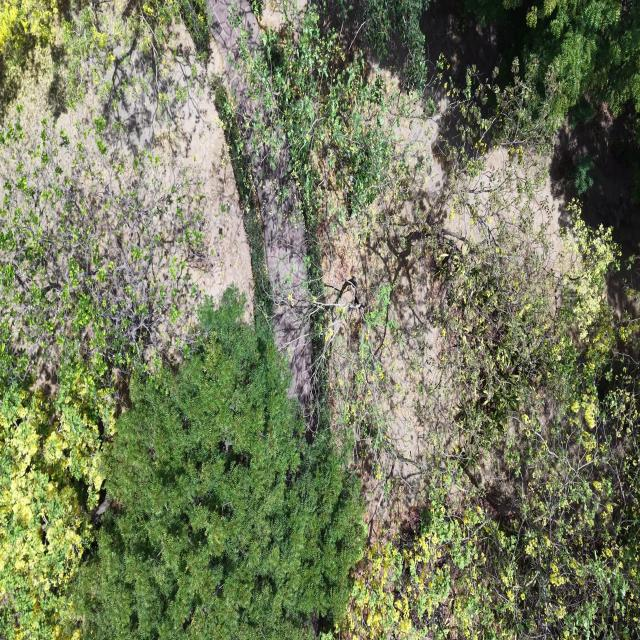DRY_AREA: (321, 116, 563, 539), (7, 25, 253, 319), (51, 0, 256, 316), (321, 117, 476, 530), (321, 153, 478, 538), (323, 207, 454, 540), (106, 25, 253, 318), (550, 104, 639, 314), (251, 148, 313, 412)
PATHWAYS: (252, 151, 312, 415)
VEGETATION_TREE: (0, 0, 639, 639), (246, 24, 638, 637), (332, 84, 638, 638), (0, 6, 211, 638), (342, 219, 638, 638), (0, 116, 207, 637), (0, 117, 203, 638), (74, 290, 361, 638), (434, 218, 638, 637), (241, 8, 426, 380), (0, 115, 207, 380), (242, 8, 405, 228), (0, 351, 115, 638), (0, 0, 212, 117), (454, 0, 639, 122), (467, 0, 639, 118), (50, 0, 211, 123), (323, 0, 429, 90), (0, 0, 60, 114), (359, 0, 428, 89), (0, 0, 58, 55)
